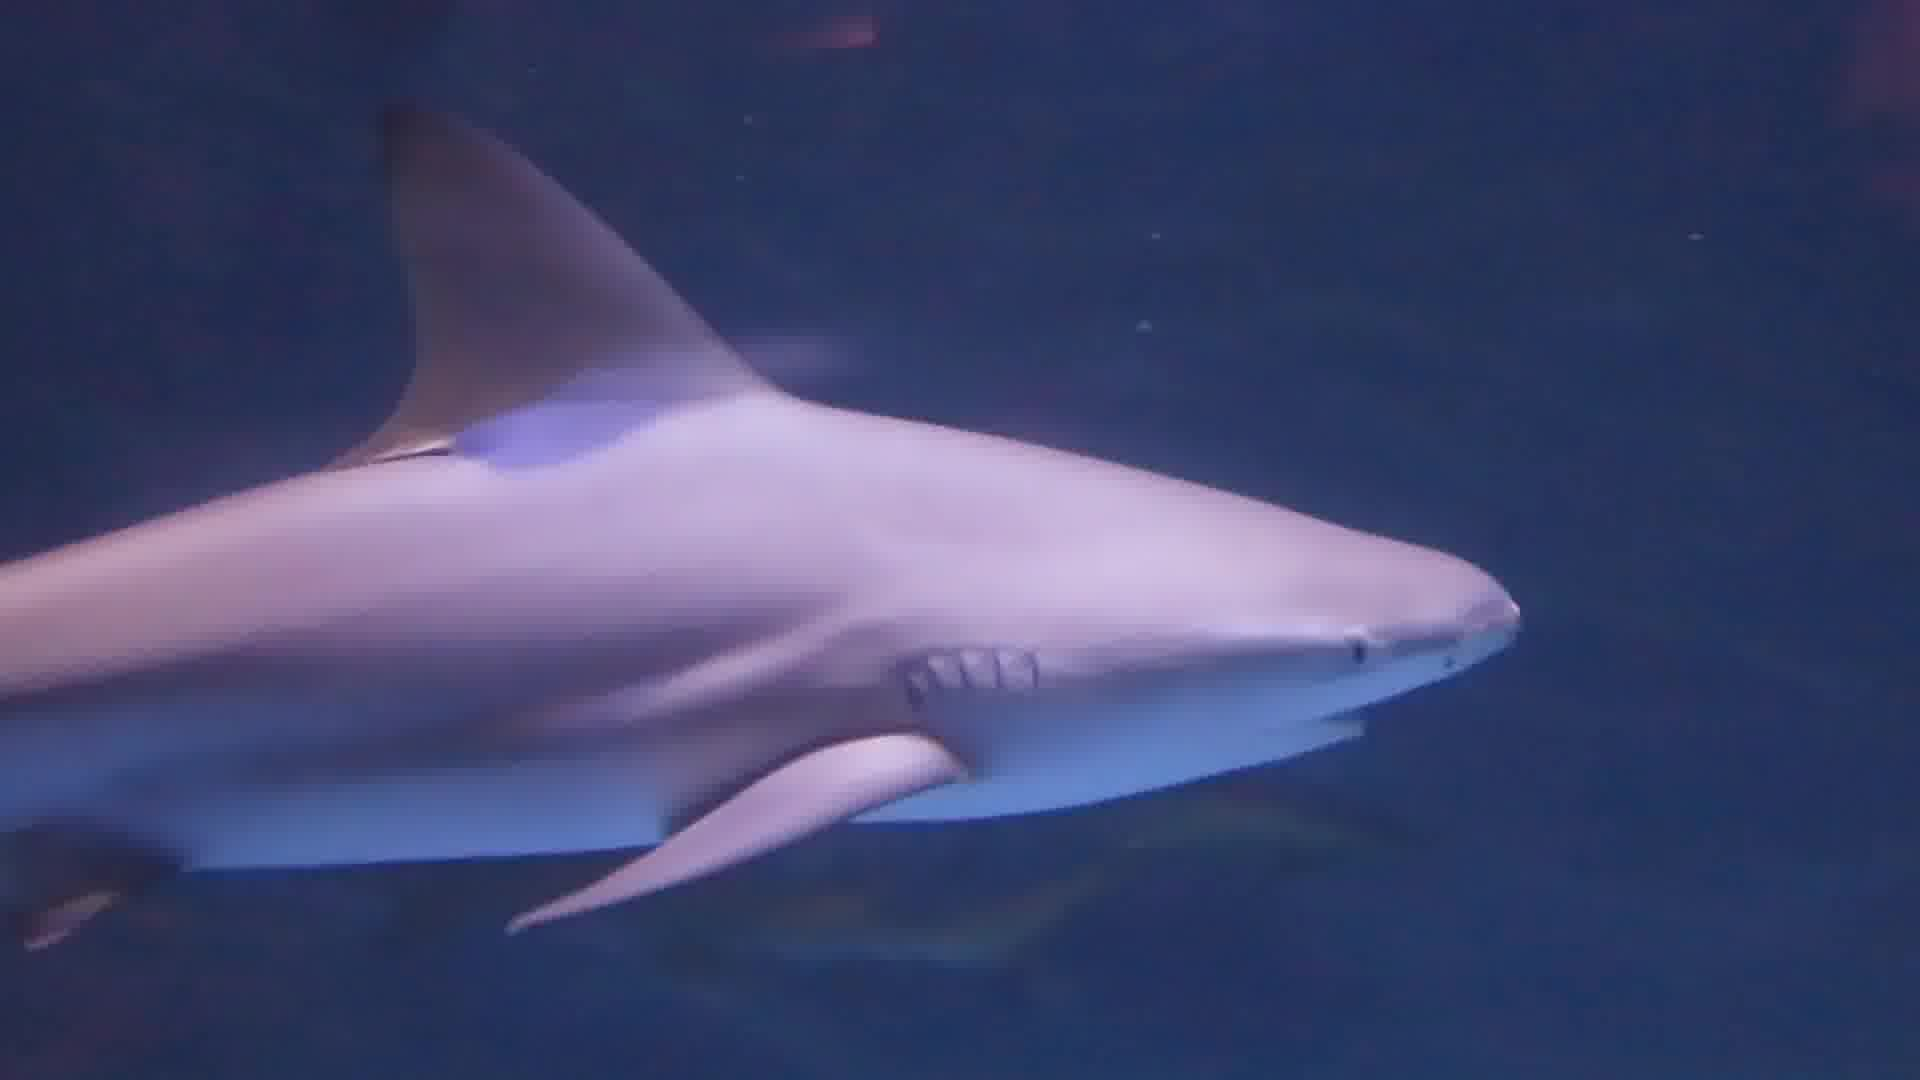Carcharhinus leucas: (3, 67, 1524, 940)
